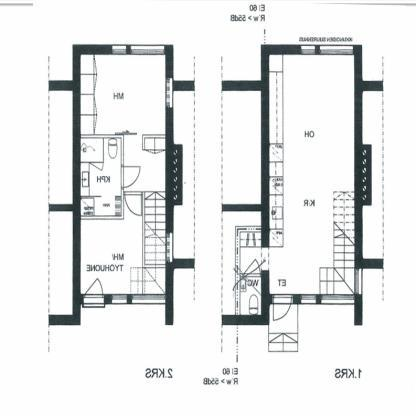door: (80, 276, 107, 310), (270, 290, 293, 324), (122, 190, 144, 218), (118, 164, 142, 189), (240, 258, 264, 279), (89, 158, 105, 173)
window: (297, 40, 355, 61), (110, 39, 166, 59), (107, 290, 168, 308), (298, 292, 356, 308), (161, 74, 175, 114), (350, 266, 366, 300), (162, 229, 176, 263)
